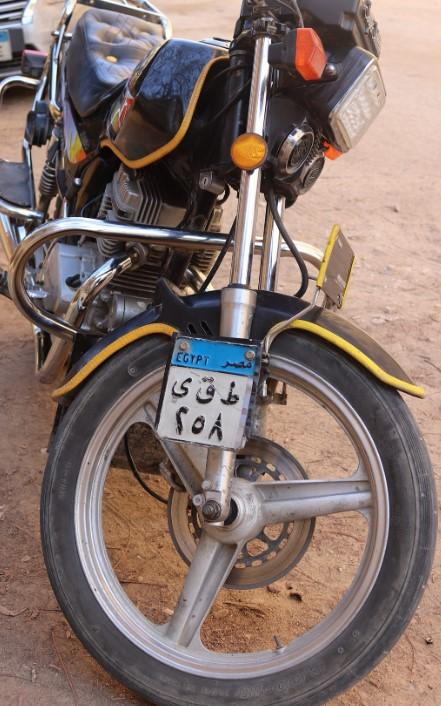License Plate: (154, 331, 257, 449)
